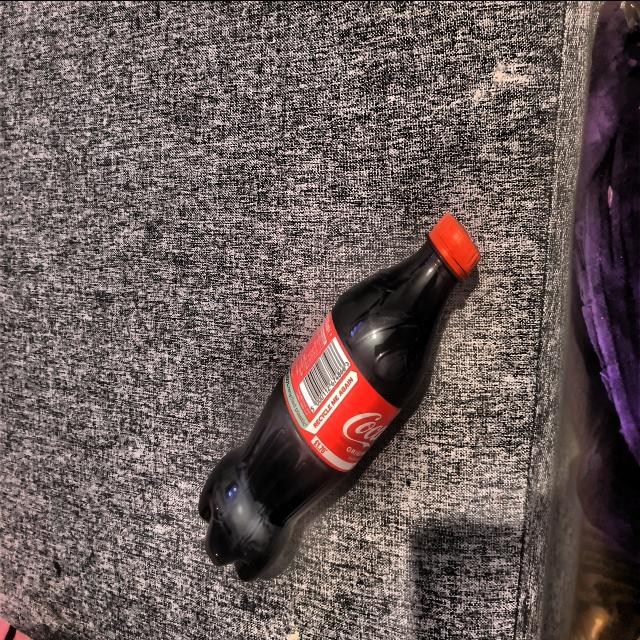coke-bottle: (200, 210, 482, 580)
